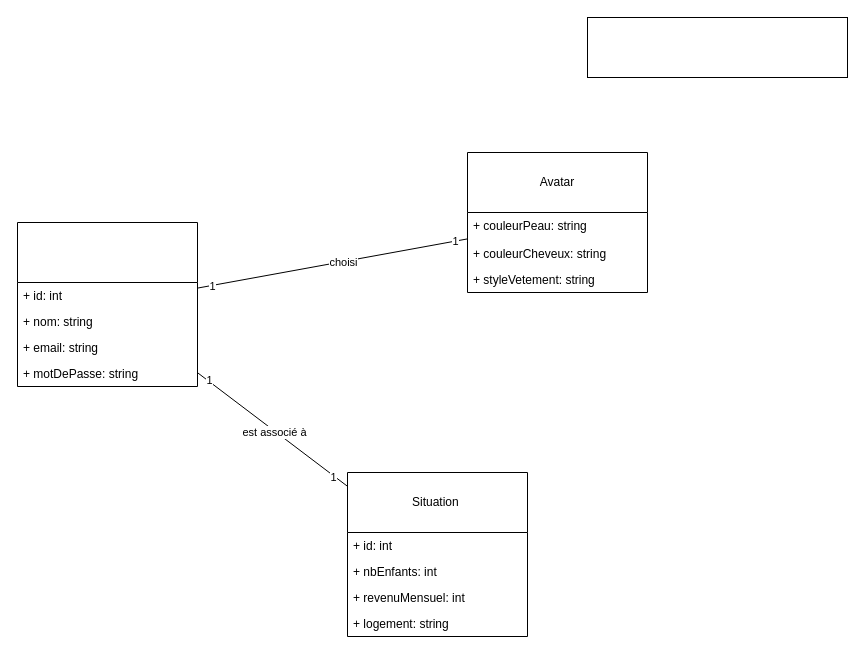
Image size: 865x657. Some labels were removed from this diagram. Each missing label, with the box of its shape:
MamanSolo: (586, 16, 848, 78)
Utilisateur: (16, 222, 198, 386)
